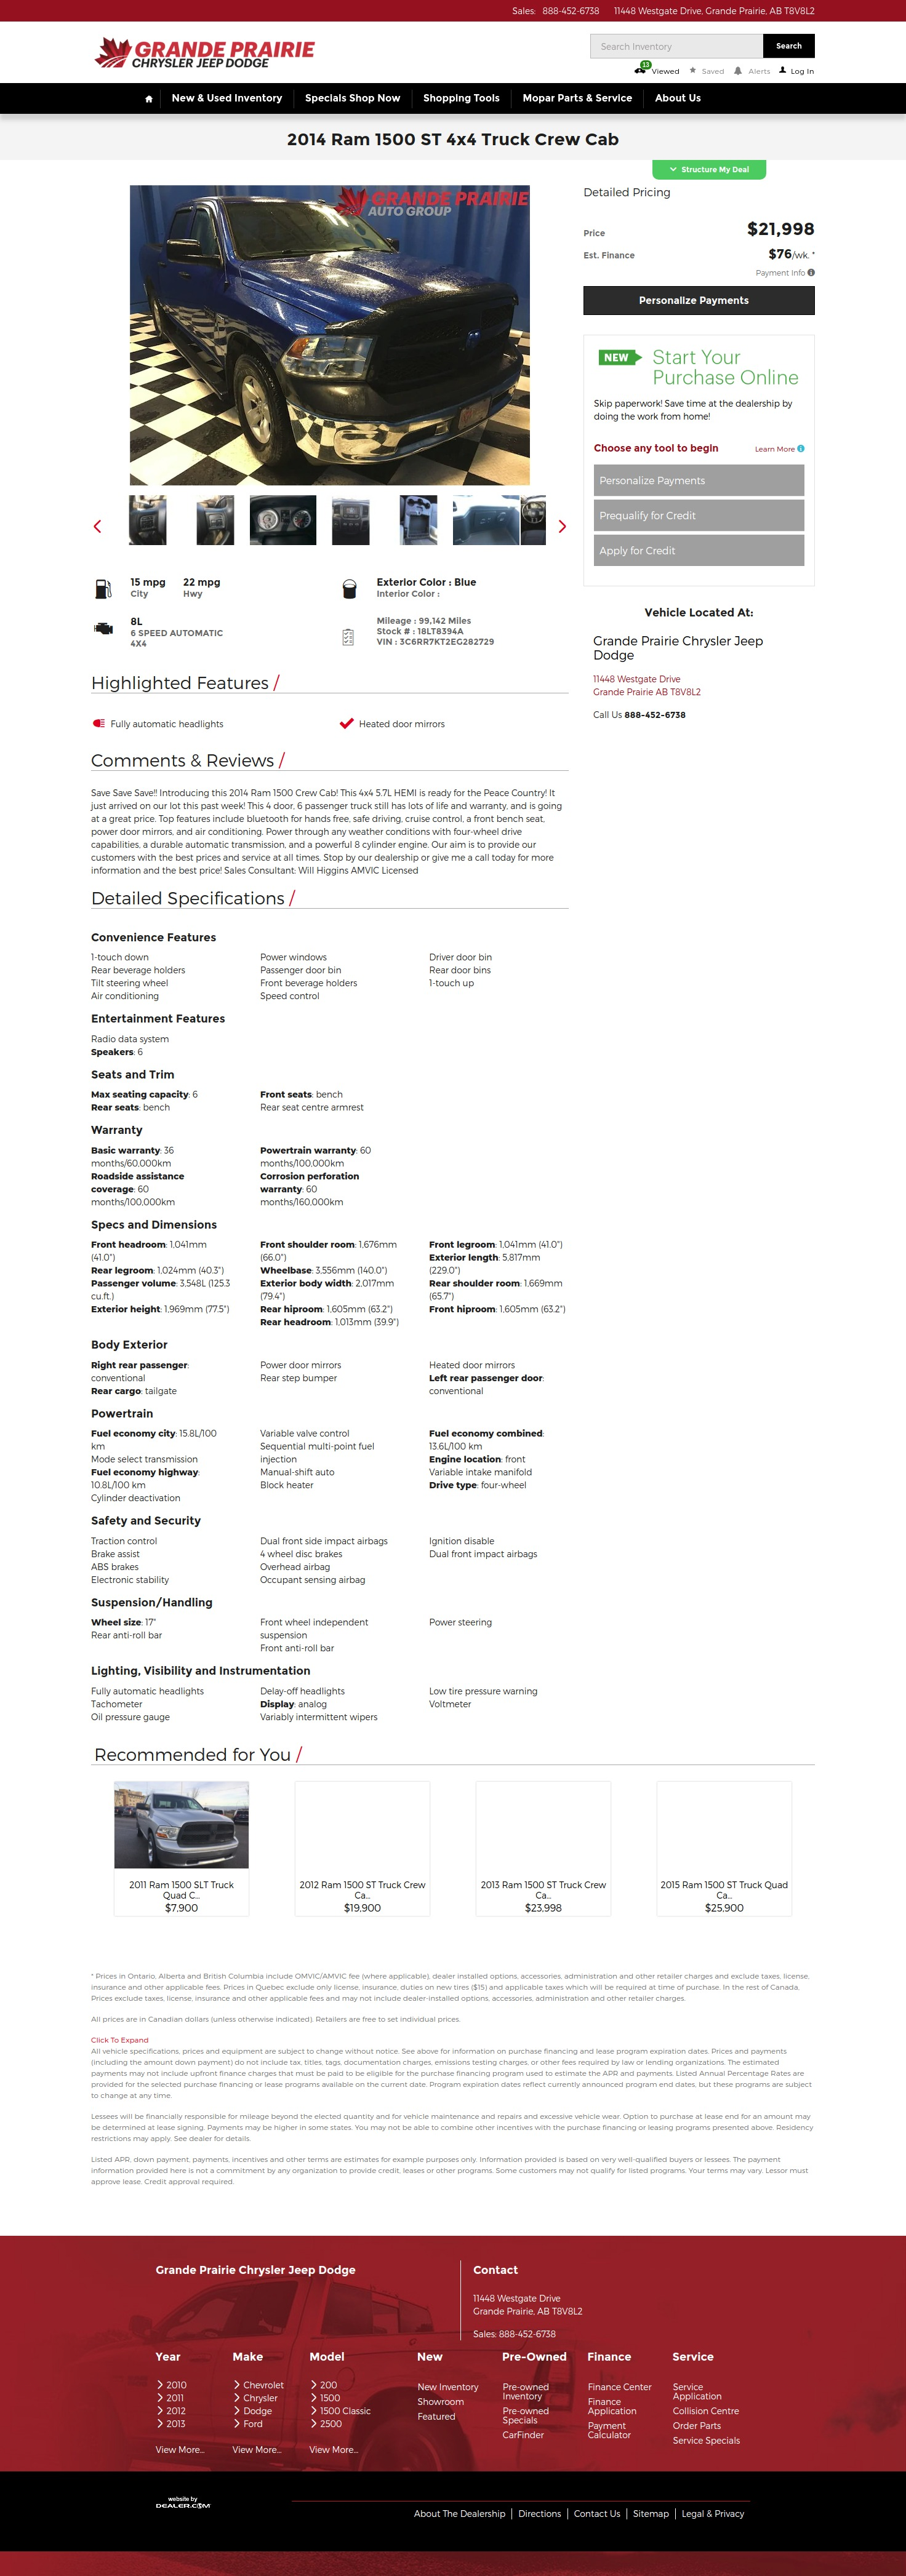car: (559, 519, 567, 534)
